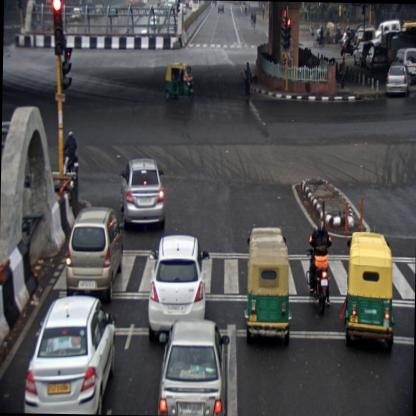car: (21, 294, 118, 414), (156, 318, 230, 415), (146, 232, 209, 344), (64, 206, 122, 300), (118, 156, 166, 232), (386, 61, 410, 98), (394, 45, 415, 81), (364, 45, 388, 73), (353, 38, 371, 66)
motorcycle: (306, 219, 334, 316), (62, 130, 79, 180)
